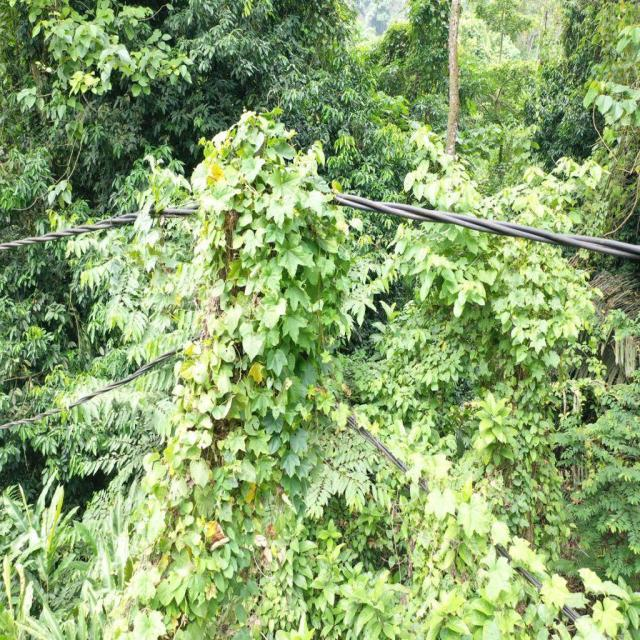critical vegetation: (159, 101, 342, 507)
